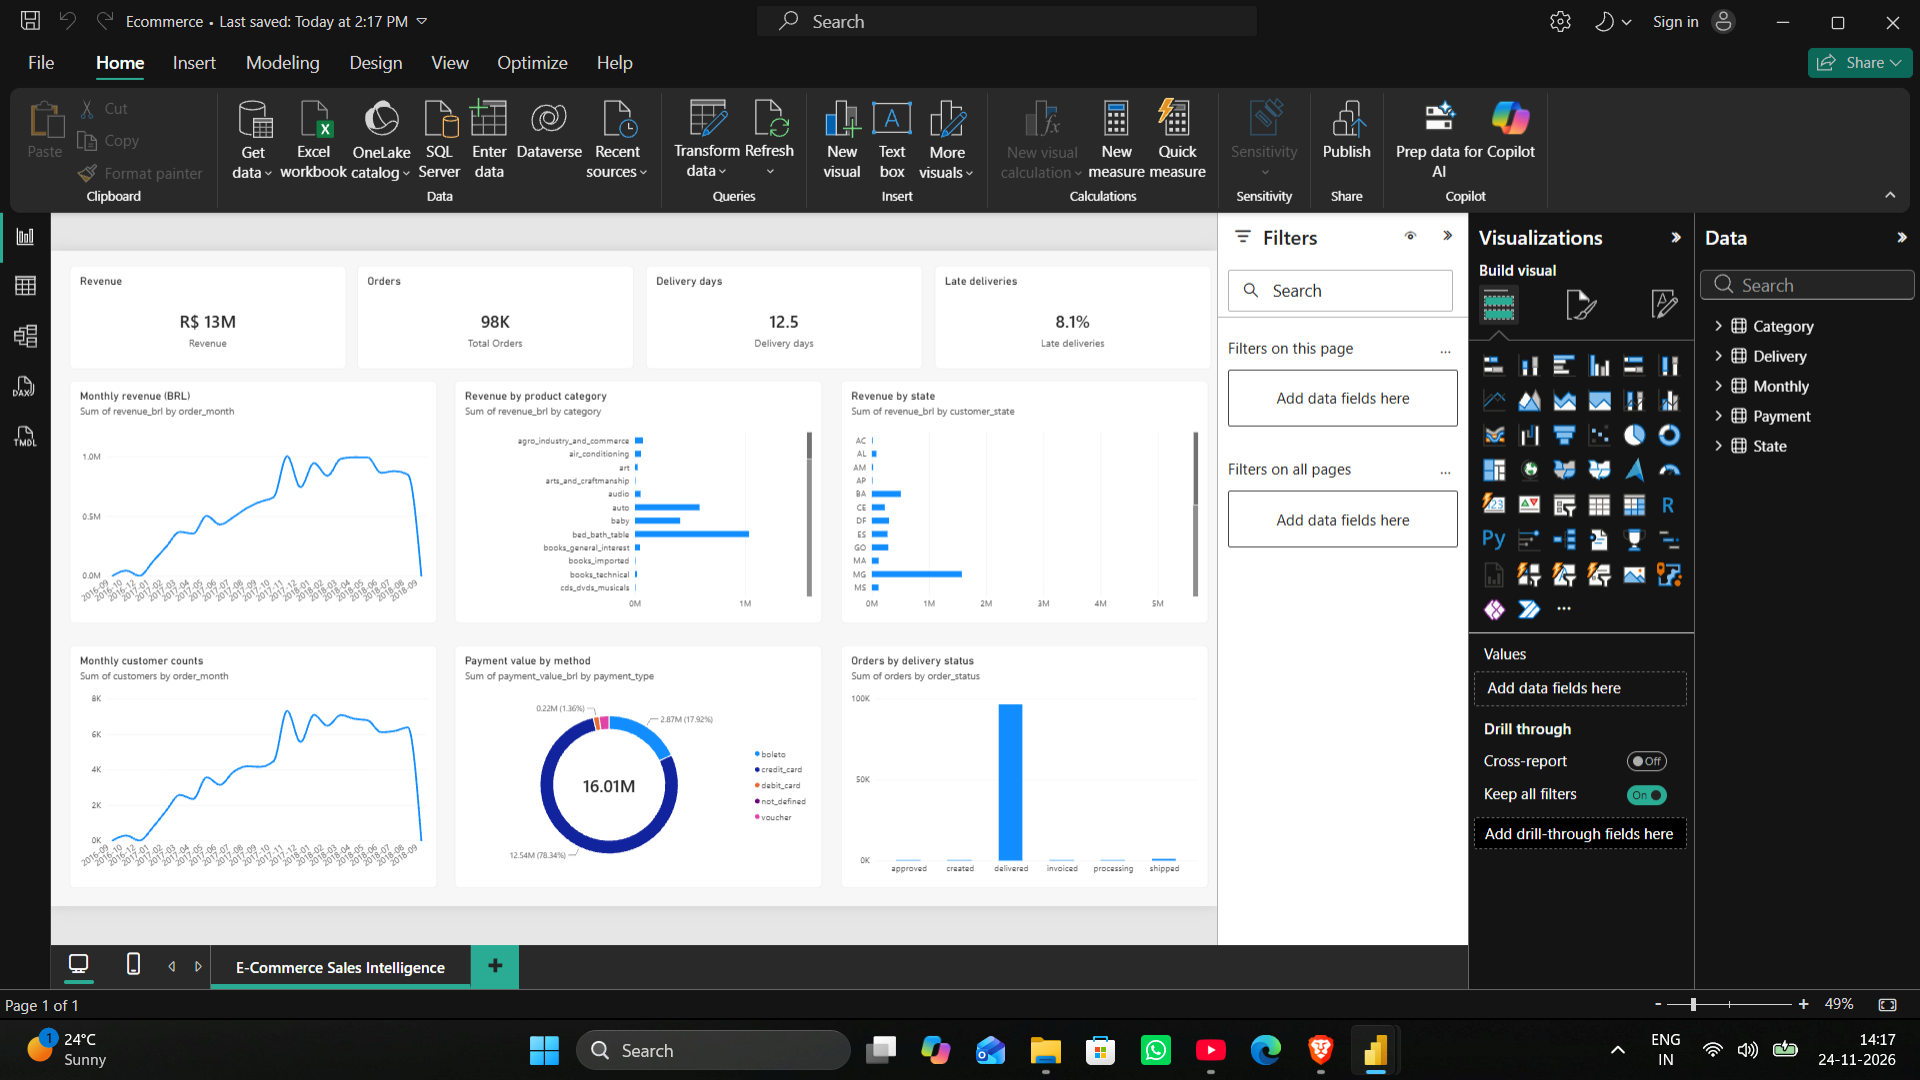

The page's visual inventory and layout, read from the dashboard file:
{"tool":"powerbi","page":{"name":"E-Commerce Sales Intelligence","canvas":[1920,1080],"ordinal":0},"visuals":[{"type":"card","title":"Revenue","fields":{"Values":["Monthly.Revenue"]},"box":[30,25,455,170],"z":0},{"type":"card","title":"Orders","fields":{"Values":["Monthly.Total Orders"]},"box":[505,25,455,170],"z":0},{"type":"card","title":"Delivery days","fields":{"Values":["Delivery.Delivery days"]},"box":[980,25,455,170],"z":0},{"type":"card","title":"Late deliveries","fields":{"Values":["Delivery.Late deliveries"]},"box":[1455,25,455,170],"z":0},{"type":"lineChart","title":"Monthly revenue (BRL)","fields":{"Category":["Monthly.order_month"],"Y":["Sum(Monthly.revenue_brl)"]},"box":[30,215,605,400],"z":0},{"type":"barChart","title":"Revenue by product category","fields":{"Category":["Category.category"],"Y":["Sum(Category.revenue_brl)"]},"box":[665,215,605,400],"z":0},{"type":"barChart","title":"Revenue by state","fields":{"Category":["State.customer_state"],"Y":["Sum(State.revenue_brl)"]},"box":[1300,215,605,400],"z":0},{"type":"lineChart","title":"Monthly customer counts","fields":{"Category":["Monthly.order_month"],"Y":["Sum(Monthly.customers)"]},"box":[30,650,605,400],"z":0},{"type":"donutChart","title":"Payment value by method","fields":{"Category":["Payment.payment_type"],"Y":["Sum(Payment.payment_value_brl)"]},"box":[665,650,605,400],"z":0},{"type":"columnChart","title":"Orders by delivery status","fields":{"Category":["Delivery.order_status"],"Y":["Sum(Delivery.orders)"]},"box":[1300,650,605,400],"z":0}]}

Visuals, with their boxes on the page's 1920x1080 design canvas (x1, y1, x2, y2). These are canvas units, not pixel positions in the 1920x1080 screenshot, which may show the page scaled, cropped or inside an application window:
"Revenue" card: x1=30, y1=25, x2=485, y2=195
"Orders" card: x1=505, y1=25, x2=960, y2=195
"Delivery days" card: x1=980, y1=25, x2=1435, y2=195
"Late deliveries" card: x1=1455, y1=25, x2=1910, y2=195
"Monthly revenue (BRL)" lineChart: x1=30, y1=215, x2=635, y2=615
"Revenue by product category" barChart: x1=665, y1=215, x2=1270, y2=615
"Revenue by state" barChart: x1=1300, y1=215, x2=1905, y2=615
"Monthly customer counts" lineChart: x1=30, y1=650, x2=635, y2=1050
"Payment value by method" donutChart: x1=665, y1=650, x2=1270, y2=1050
"Orders by delivery status" columnChart: x1=1300, y1=650, x2=1905, y2=1050
